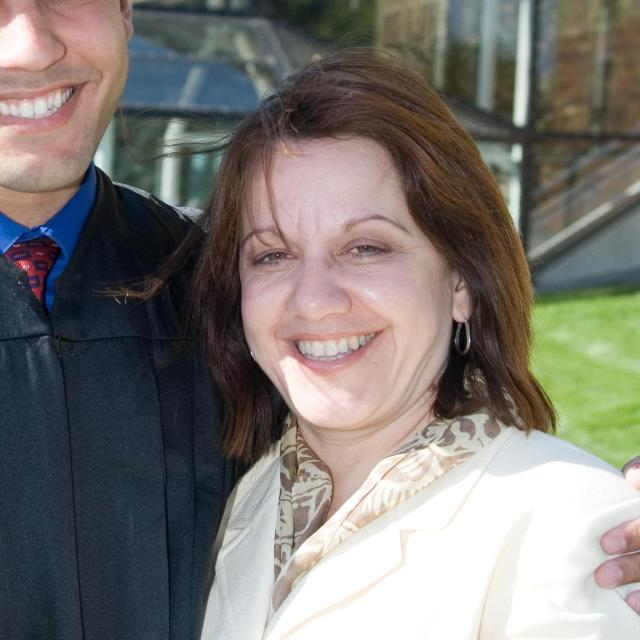no-glass: (244, 238, 404, 263)
